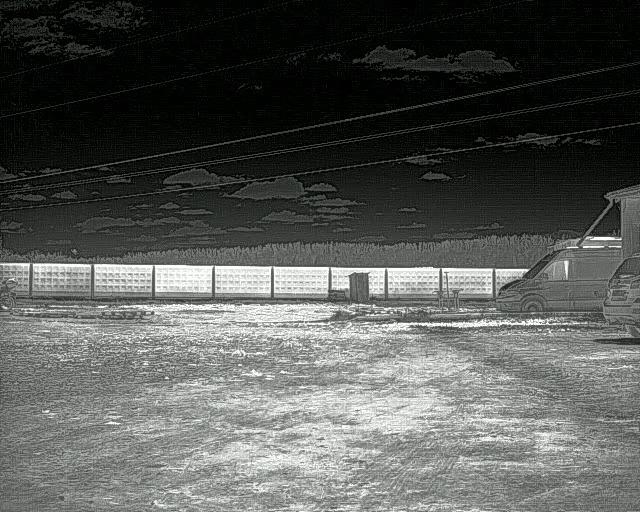ufo-thermal: (69, 245, 80, 257)
